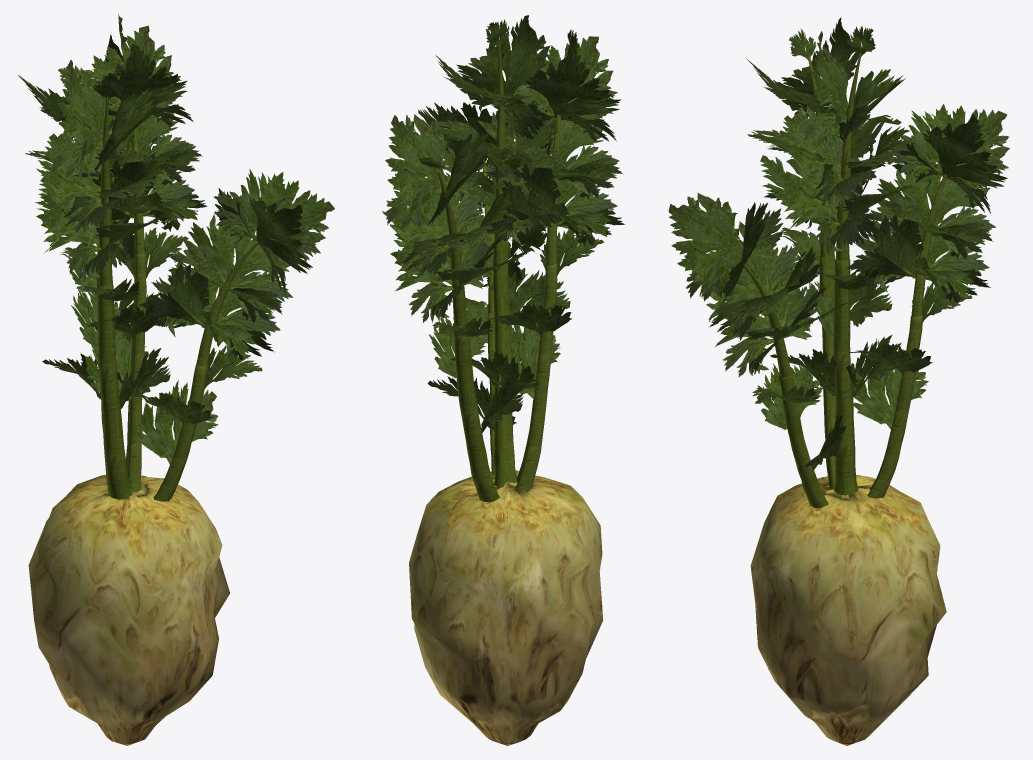
The picture shows the model from 3 angles, left to right: view 1: azimuth 30°, elevation 25°; view 2: azimuth 150°, elevation 25°; view 3: azimuth 270°, elevation 25°; orthographic projection.
Visible parts, largest first — view 1: VG02_5; view 2: VG02_5; view 3: VG02_5.
Boxes of the visible parts, x1,y1,x2,y2 form: VG02_5: [18, 14, 334, 745]; VG02_5: [382, 15, 625, 745]; VG02_5: [668, 17, 1009, 745].
Size of the model in its own units: 0.1107 by 0.2938 by 0.1315.
